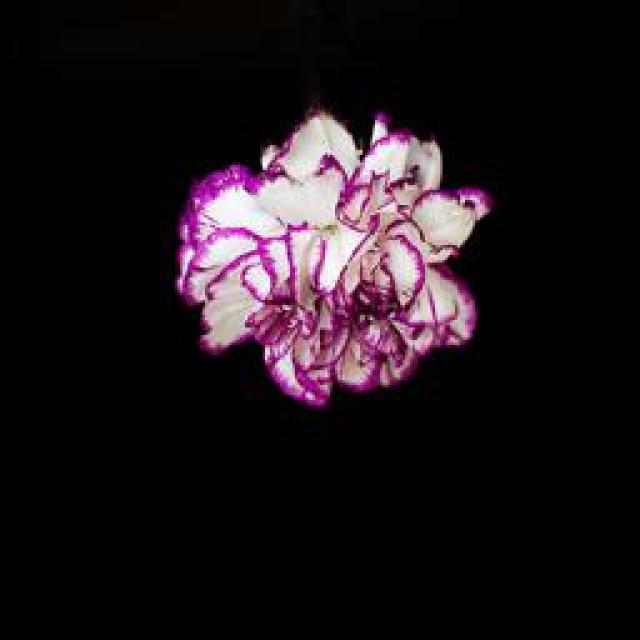carnation: (171, 94, 501, 411)
